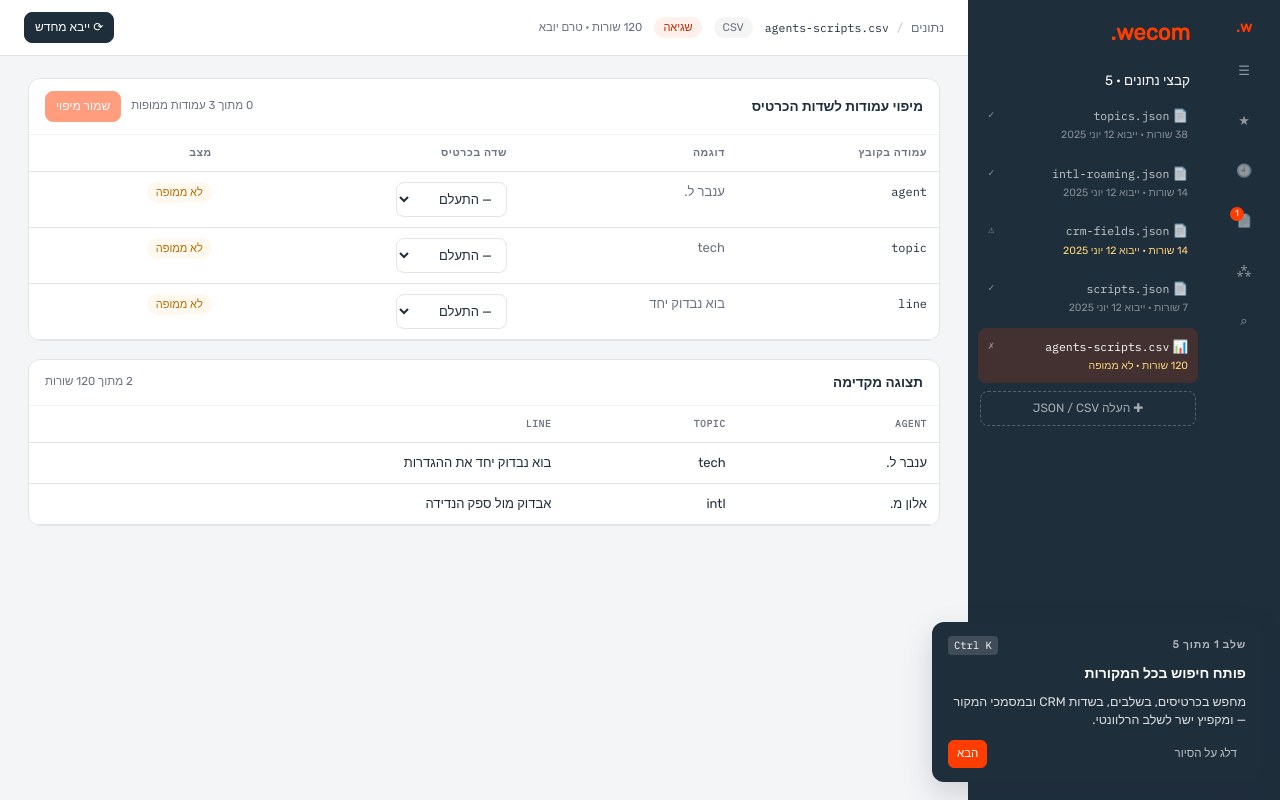
Test: <DataPage> › maps a column to a card field and saves the mapping
Check: the table with test id "mapping-table" is shown, box [29,135,939,340]
Check: the button "שמור מיפוי" is disabled, box [45,91,121,122]
Select "פעולה בשלב" in the dropdown named "שדה בכרטיס עבור line" at (452, 311), box [396,294,507,329]
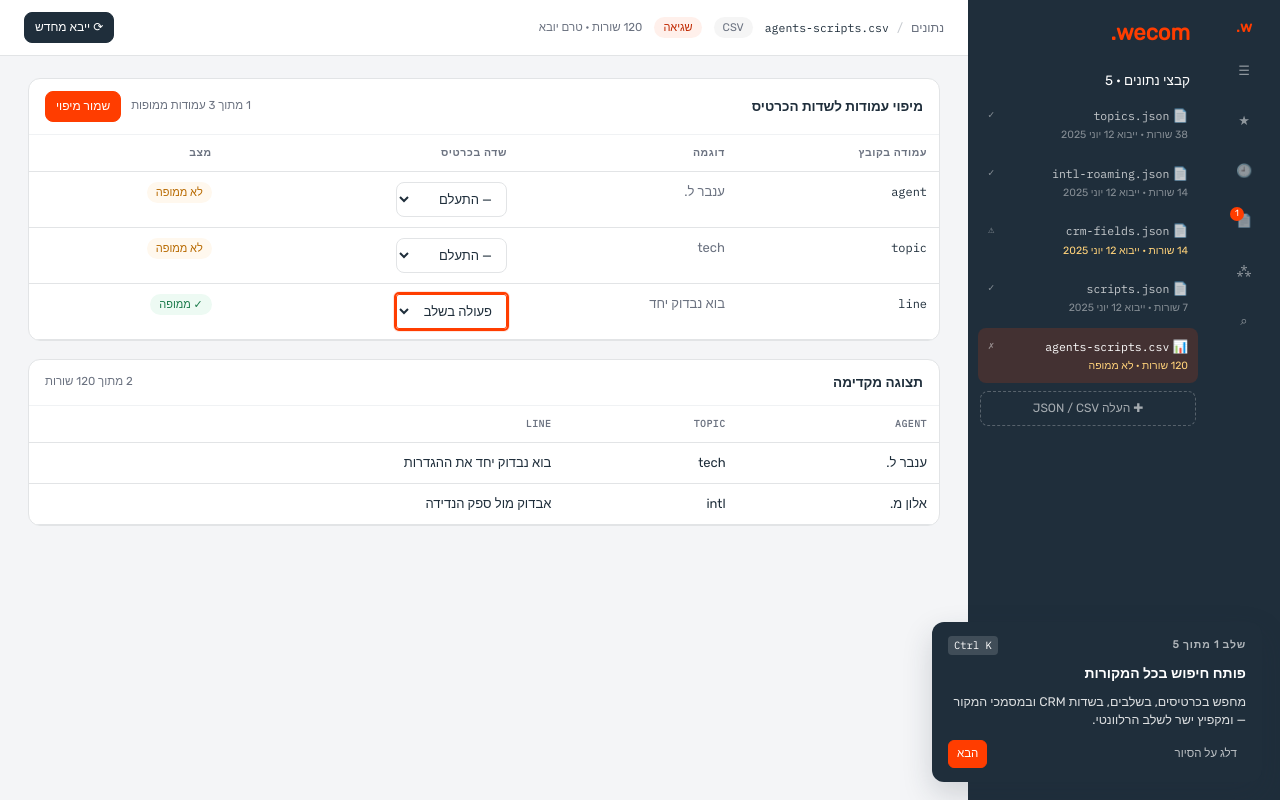
Check: the text "✓ ממופה" is shown, box [150,294,212,316]
Check: the button "שמור מיפוי" is enabled
Click the button "שמור מיפוי" at (83, 106), box [45,91,121,122]
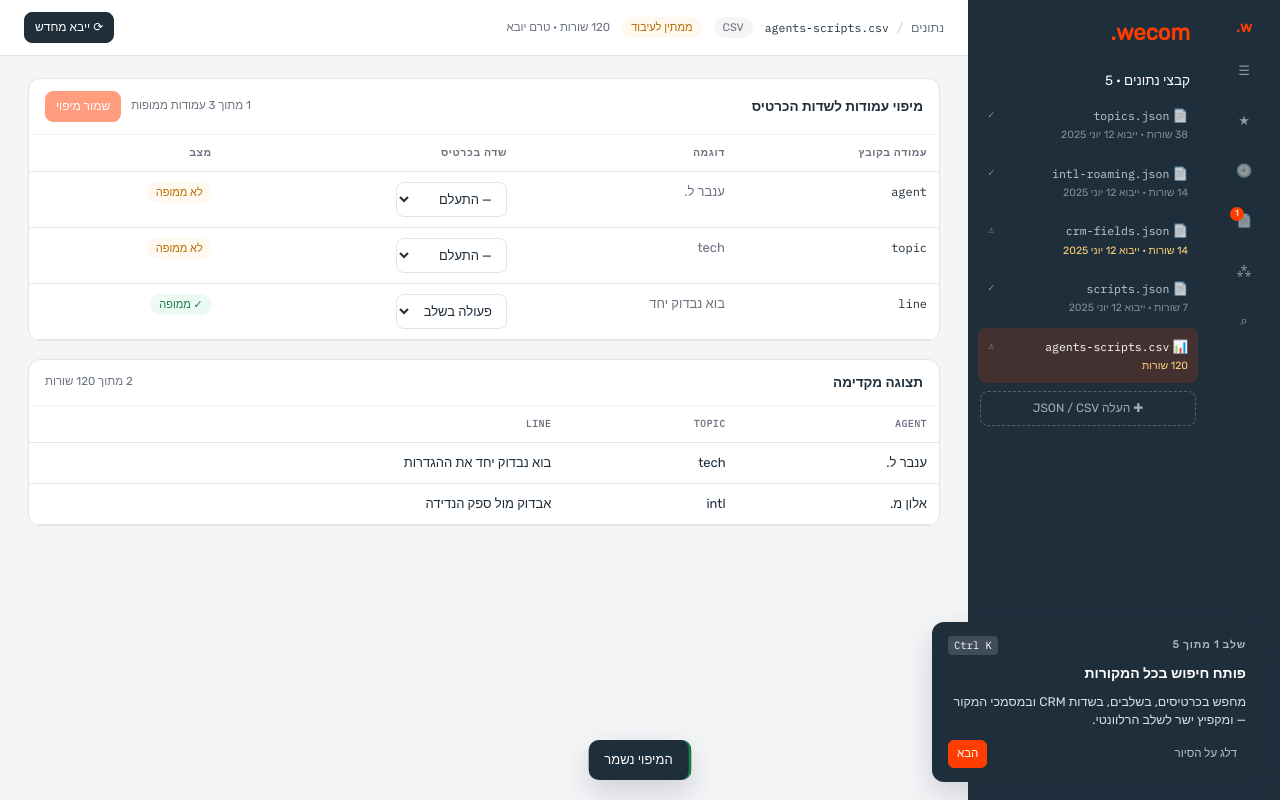
Check: the text "המיפוי נשמר" is shown, box [604,750,673,770]
